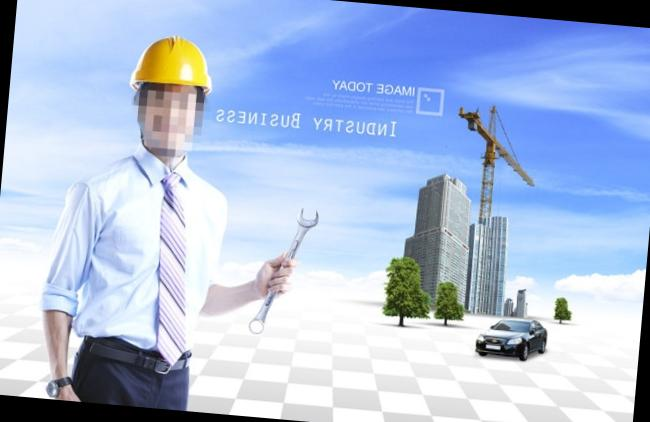helmet: (124, 30, 221, 98)
no_wear: (75, 165, 228, 358)
